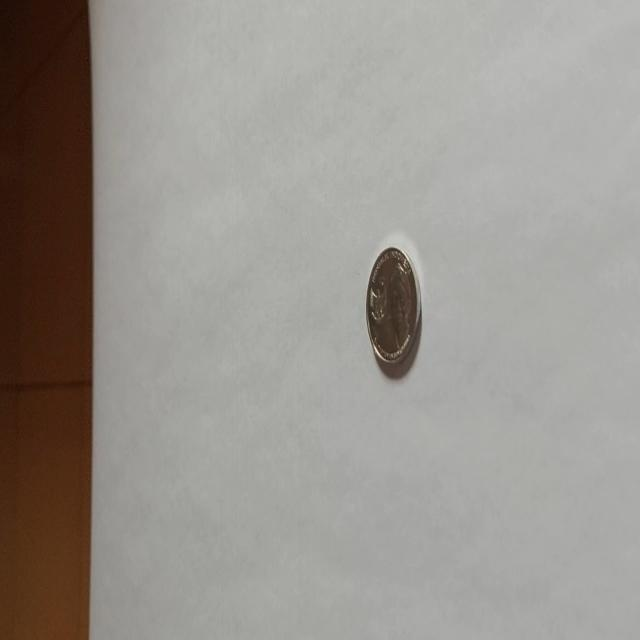dua ratus rupiah: (364, 244, 422, 368)
